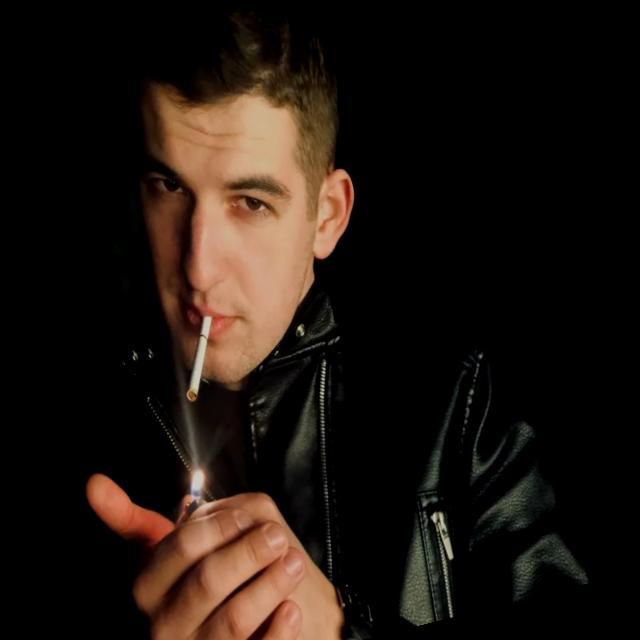smoke: (164, 308, 233, 408)
